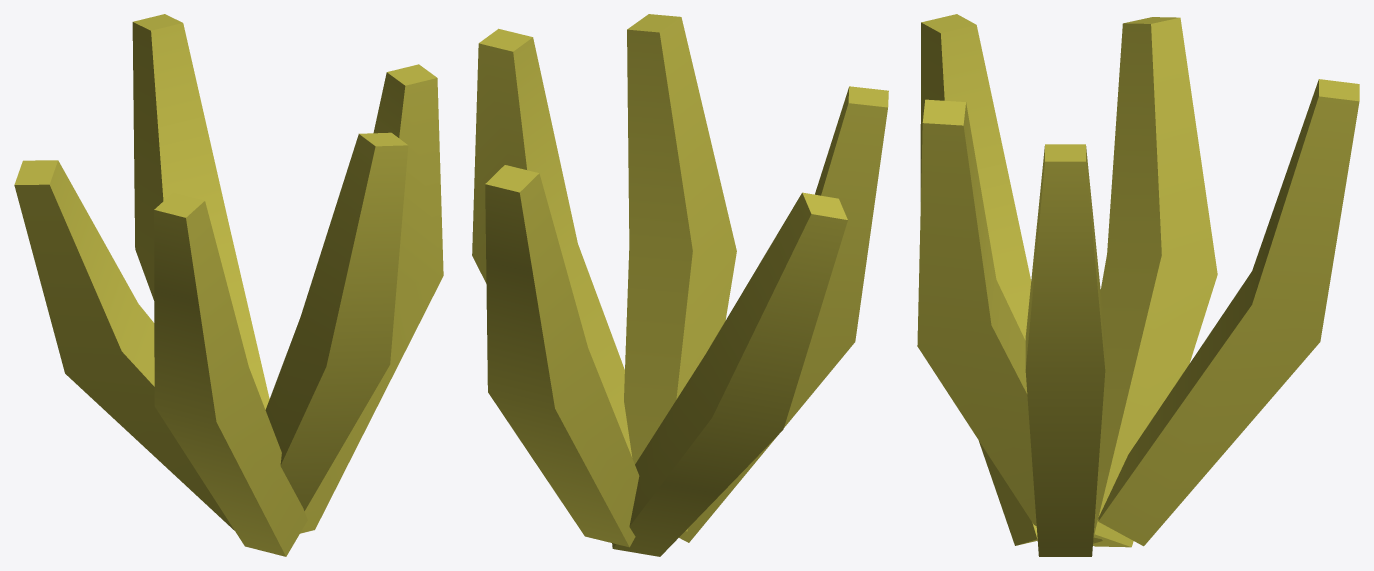
The model's file is Grass2.fbx.
3 renders of one model, left to right at view 1: azimuth 30°, elevation 25°; view 2: azimuth 150°, elevation 25°; view 3: azimuth 270°, elevation 25°, orthographic. The views are drawn at different scales.
Parts seen in each view (by area): view 1: haicao; view 2: haicao; view 3: haicao.
Boxes of the visible parts, <box> form: haicao: <box>14,14,443,556</box>; haicao: <box>472,14,888,556</box>; haicao: <box>917,14,1359,556</box>.
Size of the model in its own units: 3.55 by 3.92 by 3.29.
